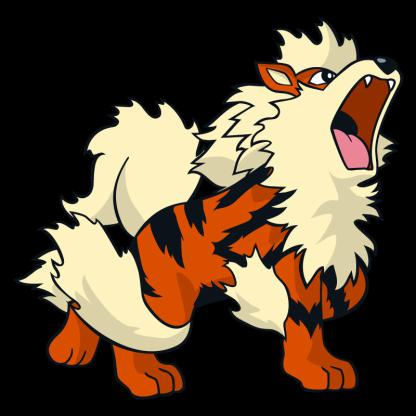Arcanine: (34, 24, 416, 397)
